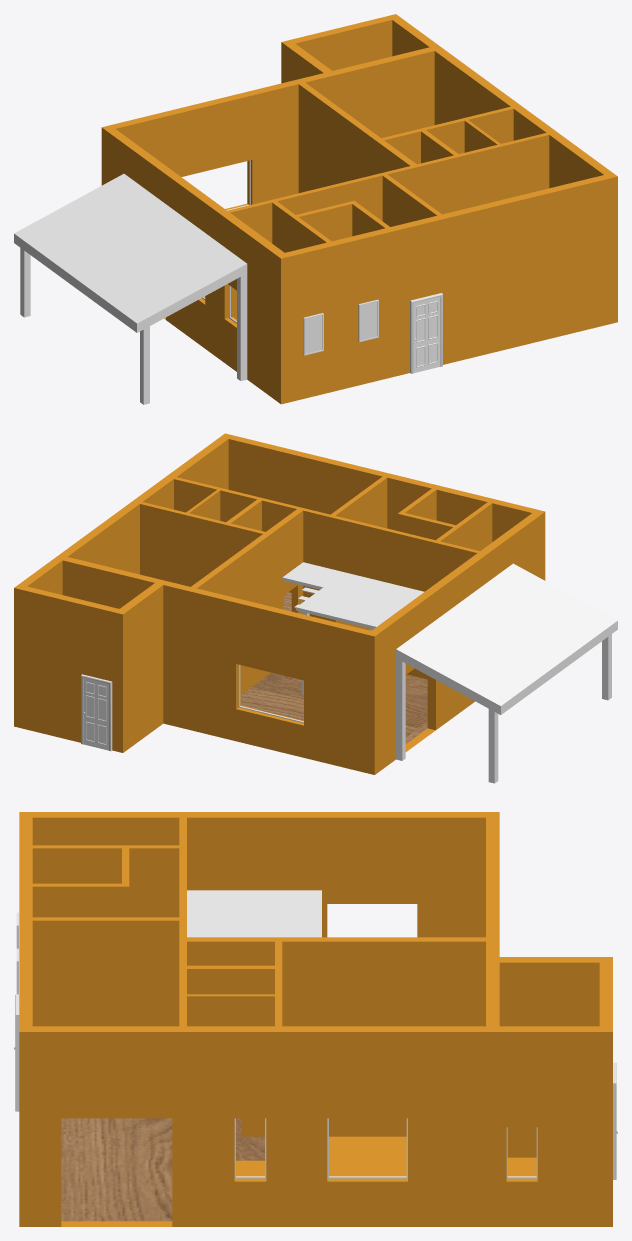
The model's file is villaNGONS.obj.
3 views of the same model, one above another, from view 1: azimuth 30°, elevation 25°; view 2: azimuth 150°, elevation 25°; view 3: azimuth 270°, elevation 25° (orthographic). The views are drawn at different scales.
Visible parts, largest first — view 1: 3D.2; view 2: 3D.2; view 3: 3D.2.
Part boxes in pixels (x1=…): 3D.2: x1=14, y1=14, x2=617, y2=404; 3D.2: x1=14, y1=433, x2=617, y2=783; 3D.2: x1=14, y1=812, x2=617, y2=1226.
Size of the model in its own units: 1380 by 430 by 1207.
